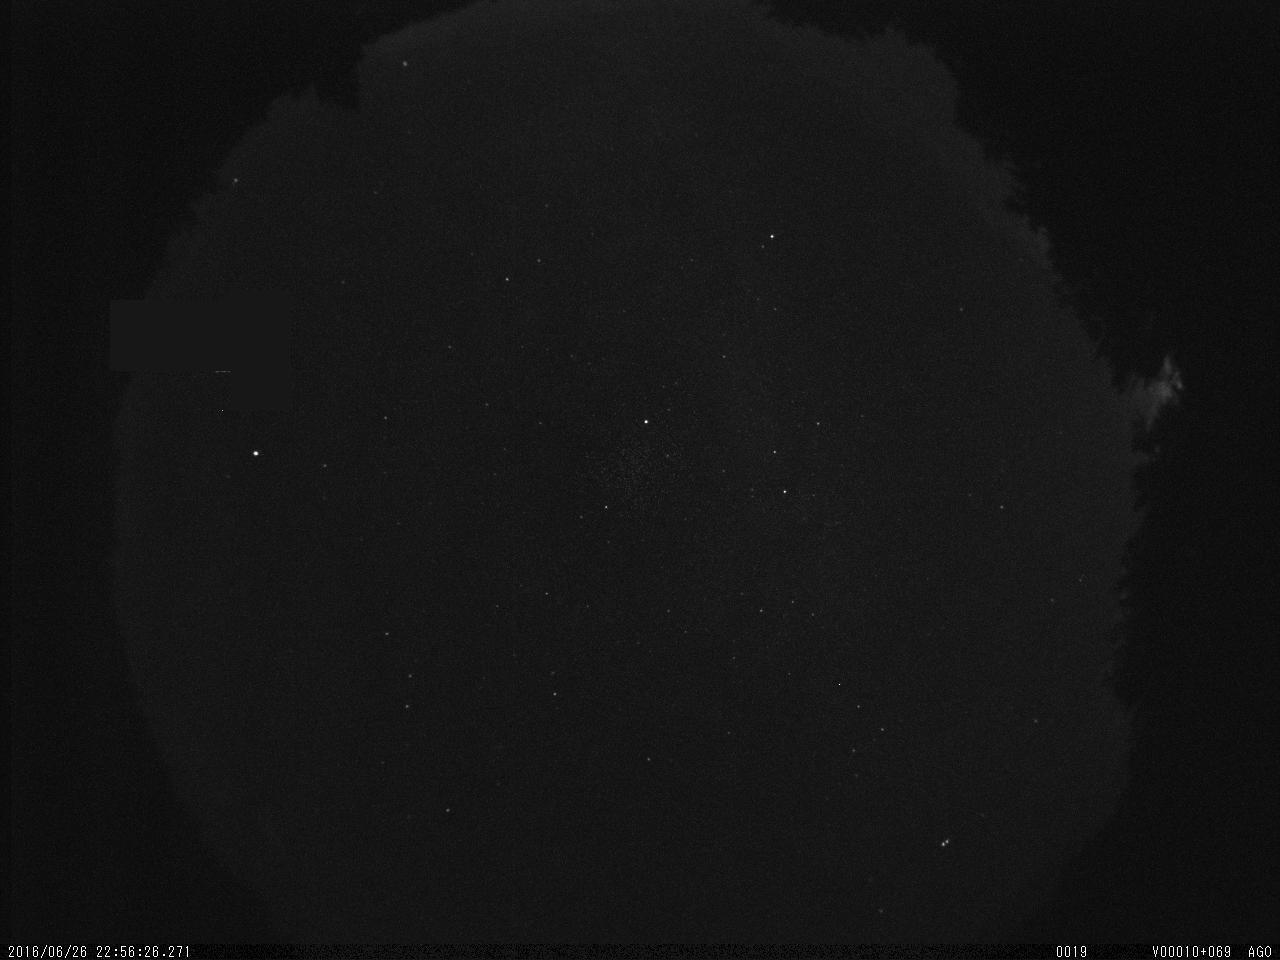meteor: (198, 356, 253, 390)
